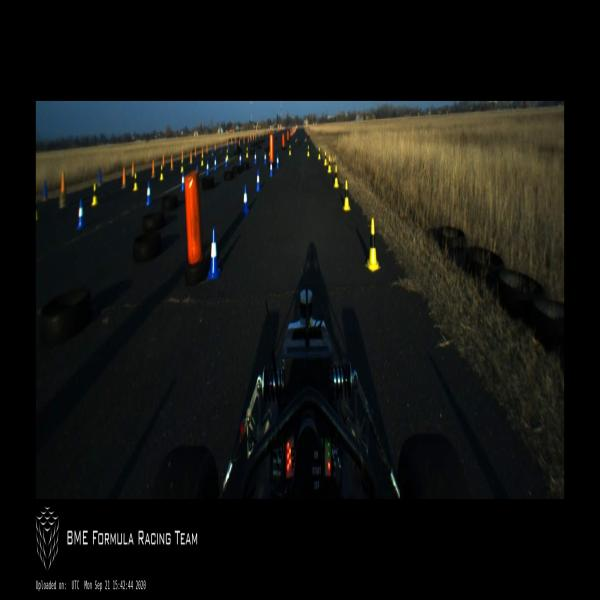blue_cone: (207, 226, 221, 282), (76, 199, 86, 231), (242, 185, 249, 216), (145, 182, 152, 206), (255, 169, 261, 192), (205, 159, 210, 177), (181, 172, 185, 192), (269, 160, 273, 178), (238, 152, 242, 167), (214, 156, 217, 172), (276, 154, 279, 169), (225, 154, 228, 169), (254, 151, 257, 165), (264, 151, 266, 166)
unknown_cone: (60, 169, 67, 207), (43, 179, 48, 202), (122, 167, 126, 190), (151, 159, 155, 178), (98, 168, 102, 186), (162, 153, 165, 165), (181, 148, 184, 160), (132, 160, 134, 177), (171, 154, 173, 171), (211, 146, 214, 156), (190, 150, 192, 164), (194, 147, 196, 157), (206, 144, 208, 154), (202, 146, 204, 155), (215, 142, 216, 152)
yellow_cone: (366, 218, 380, 272), (342, 179, 351, 212), (91, 183, 98, 206), (333, 165, 339, 188), (132, 172, 138, 192), (327, 154, 331, 173), (160, 164, 164, 182), (180, 159, 184, 173), (288, 144, 292, 156), (200, 154, 204, 166), (318, 146, 321, 160), (306, 146, 309, 157), (226, 149, 229, 160), (324, 151, 326, 166), (246, 147, 248, 159)
